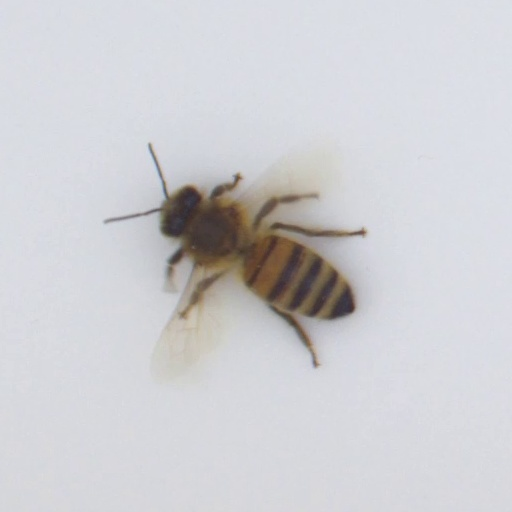Bee: (155, 178, 357, 328)
Thorax: (184, 197, 252, 265)
